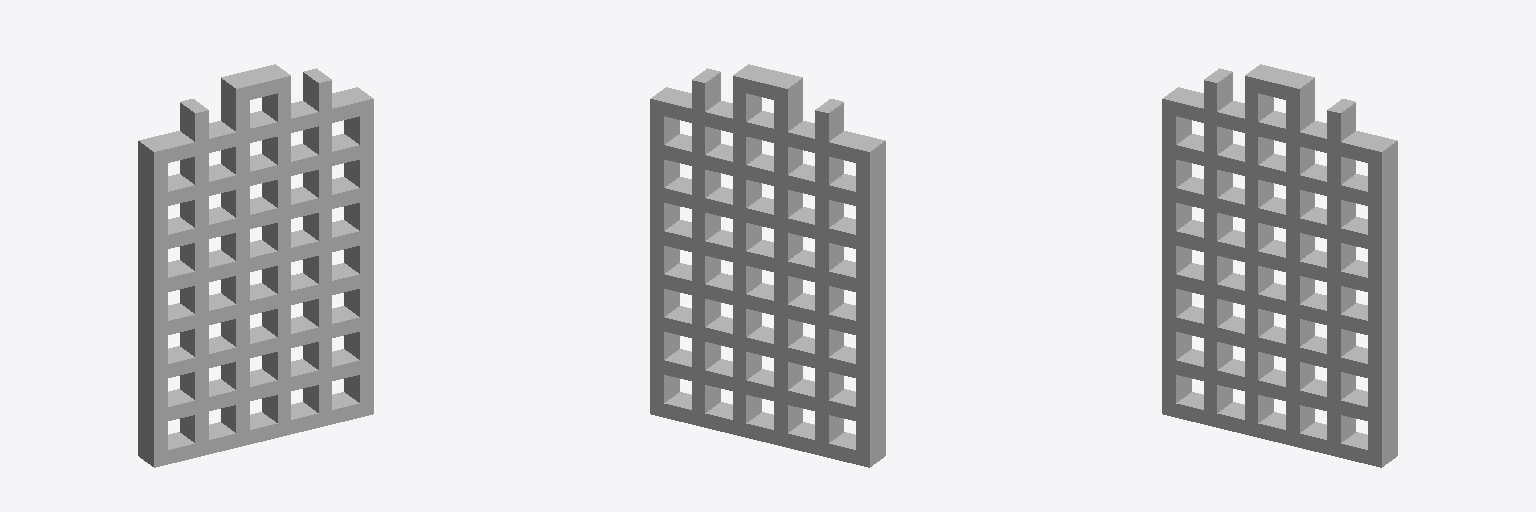
File: gate.obj
3 renders of one model, left to right at view 1: azimuth 30°, elevation 25°; view 2: azimuth 150°, elevation 25°; view 3: azimuth 330°, elevation 25°, orthographic.
Size of the model in its own units: 16 by 25 by 2.